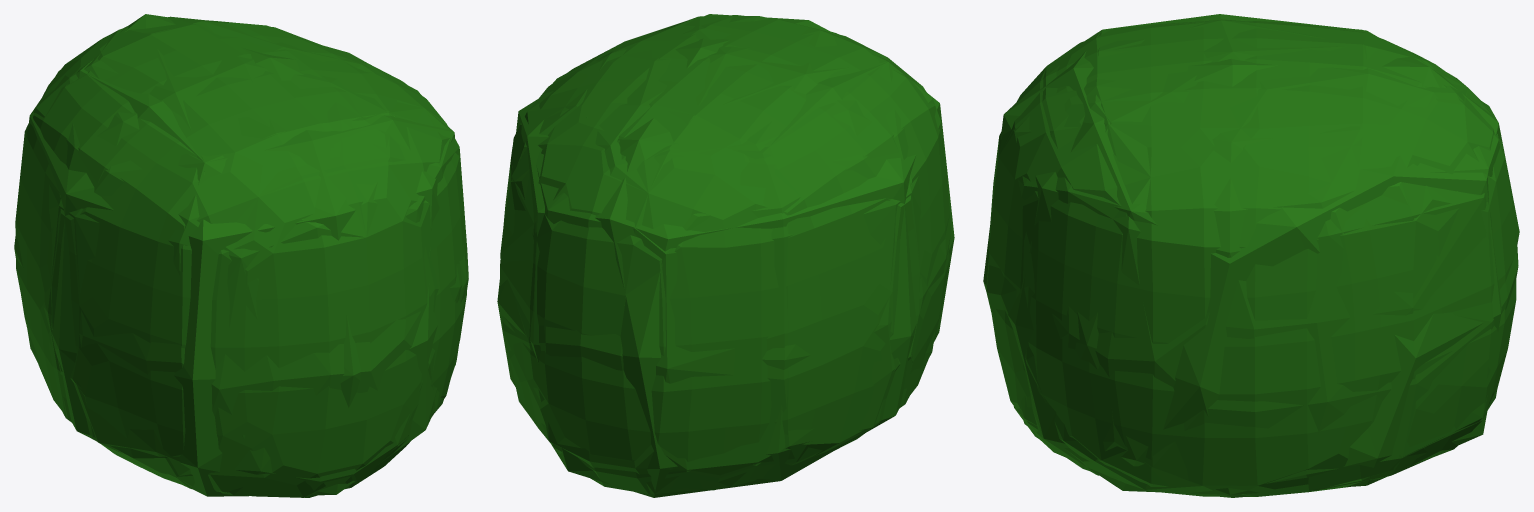
File: BuissonLOD.fbx
3 renders of one model, left to right at view 1: azimuth 30°, elevation 25°; view 2: azimuth 150°, elevation 25°; view 3: azimuth 270°, elevation 25°, orthographic. The views are drawn at different scales.
Visible parts, largest first — view 1: Buisson0, Buisson1, Buisson2; view 2: Buisson0, Buisson1, Buisson2; view 3: Buisson0, Buisson1, Buisson2.
Boxes of the visible parts, box(x1,y1,x2,y2) form: Buisson0: box(16, 17, 467, 497); Buisson1: box(15, 16, 468, 497); Buisson2: box(14, 14, 466, 496); Buisson0: box(500, 15, 949, 493); Buisson1: box(500, 16, 951, 493); Buisson2: box(497, 14, 954, 497); Buisson0: box(989, 21, 1516, 496); Buisson1: box(986, 19, 1518, 497); Buisson2: box(983, 14, 1519, 494).
Size of the model in its own units: 2.96 by 2.33 by 2.58.
